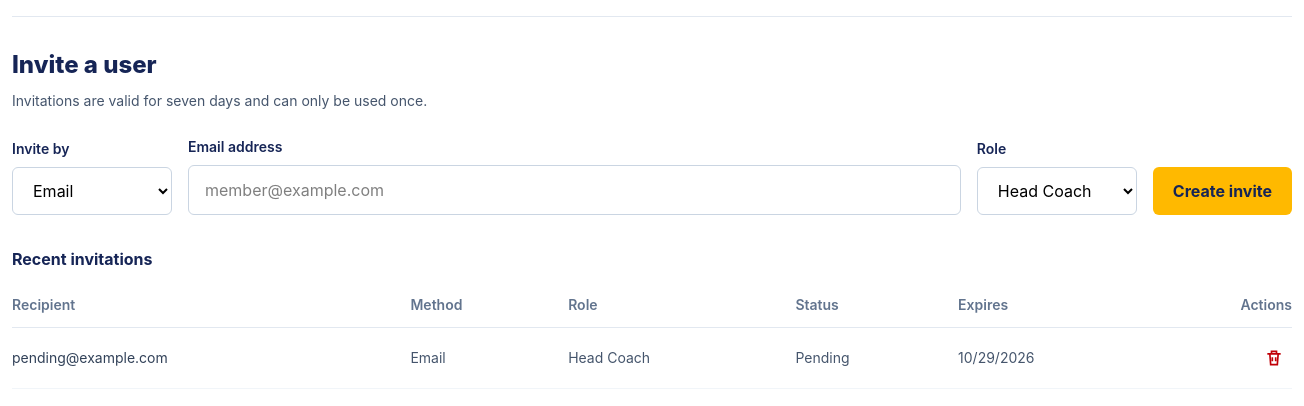
AdminInvitations › deletes a pending invitation after confirmation
Click the button named "Delete invitation for pending@example.com": {"x": 1274, "y": 358} [1256,340,1292,376]
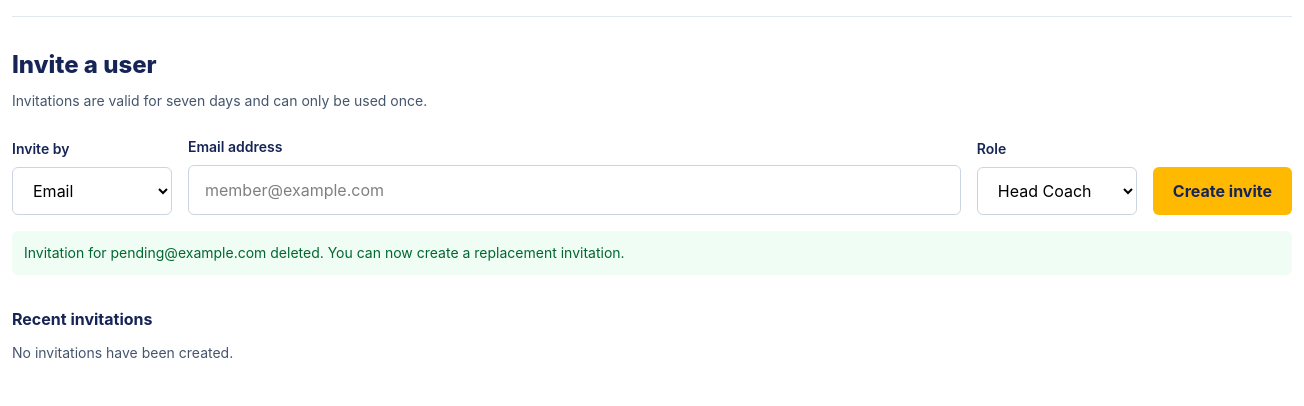
Result: the message shows "Invitation for pending@example.com deleted." at [24,244,625,261]
